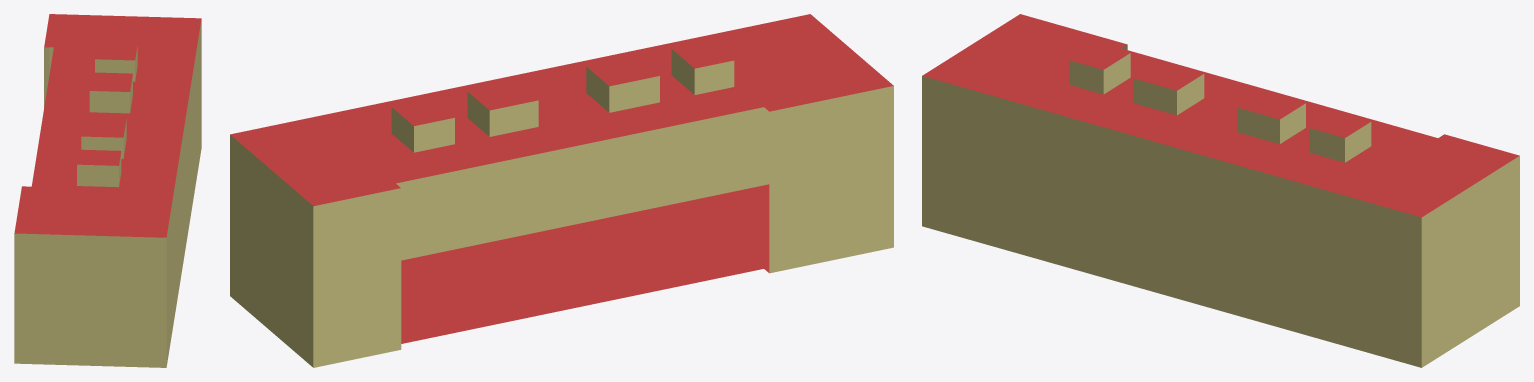
The picture shows the model from 3 angles, left to right: view 1: azimuth 30°, elevation 25°; view 2: azimuth 150°, elevation 25°; view 3: azimuth 270°, elevation 25°; orthographic projection. The views are drawn at different scales.
Parts seen in each view (by area): view 1: group_3, group_12, group_11, group_9, group_4, group_8, group_5, group_10, group_6, group_7; view 2: group_12, group_3, group_13, group_5, group_9, group_7, group_11, group_4, group_8, group_10, group_6; view 3: group_12, group_3, group_5, group_9, group_7, group_11, group_4, group_8, group_10, group_6.
Part boxes in pixels (bbox=[...]): group_3: bbox=[14, 14, 201, 237]; group_12: bbox=[14, 19, 201, 367]; group_11: bbox=[77, 152, 121, 187]; group_9: bbox=[89, 75, 132, 113]; group_4: bbox=[81, 117, 126, 137]; group_8: bbox=[90, 72, 132, 91]; group_5: bbox=[81, 119, 126, 158]; group_10: bbox=[77, 149, 121, 165]; group_6: bbox=[95, 43, 137, 60]; group_7: bbox=[95, 46, 137, 81]; group_12: bbox=[230, 86, 893, 367]; group_3: bbox=[230, 14, 893, 206]; group_13: bbox=[401, 184, 769, 343]; group_5: bbox=[586, 67, 659, 112]; group_9: bbox=[467, 92, 538, 136]; group_7: bbox=[391, 107, 454, 152]; group_11: bbox=[671, 49, 734, 94]; group_4: bbox=[586, 56, 659, 86]; group_8: bbox=[468, 81, 537, 110]; group_10: bbox=[672, 40, 733, 68]; group_6: bbox=[392, 98, 454, 125]; group_12: bbox=[922, 44, 1519, 367]; group_3: bbox=[922, 14, 1519, 217]; group_5: bbox=[1133, 74, 1204, 115]; group_9: bbox=[1237, 103, 1305, 143]; group_7: bbox=[1309, 122, 1371, 162]; group_11: bbox=[1069, 53, 1130, 94]; group_4: bbox=[1133, 61, 1203, 90]; group_8: bbox=[1238, 91, 1305, 119]; group_10: bbox=[1070, 43, 1130, 69]; group_6: bbox=[1310, 111, 1370, 137].
Bounding box in the file's own units: 56.64 × 70.31 × 22.73.
